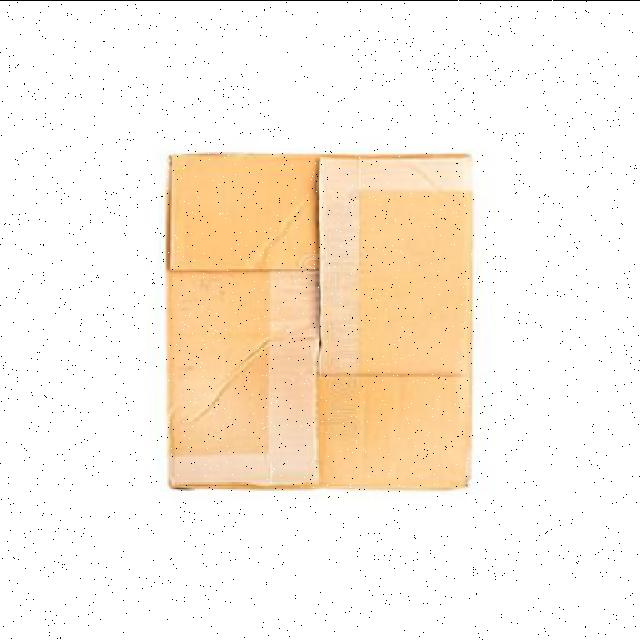normal: (158, 148, 480, 494)
